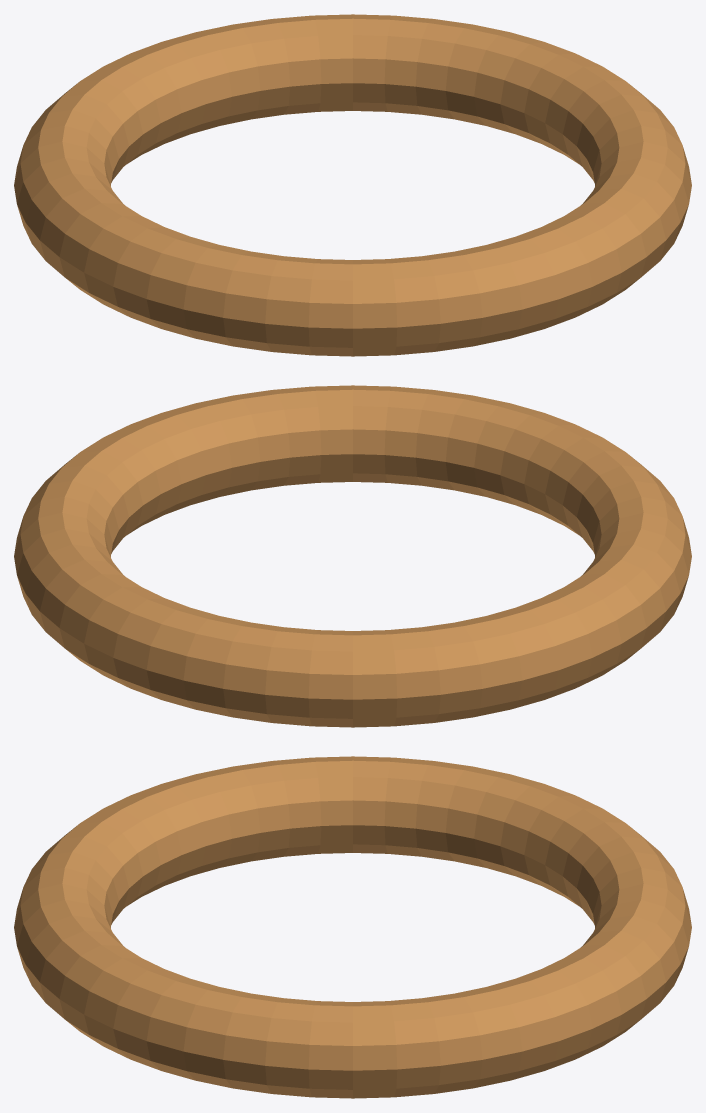
The picture shows the model from 3 angles, top to bottom: view 1: azimuth 30°, elevation 25°; view 2: azimuth 150°, elevation 25°; view 3: azimuth 270°, elevation 25°; orthographic projection.
Parts seen in each view (by area): view 1: Torus; view 2: Torus; view 3: Torus.
Boxes of the visible parts, x1,y1,x2,y2 form: Torus: (14, 14, 691, 356); Torus: (14, 385, 691, 727); Torus: (14, 756, 691, 1098).
Size of the model in its own units: 1.4 by 0.2 by 1.4.
